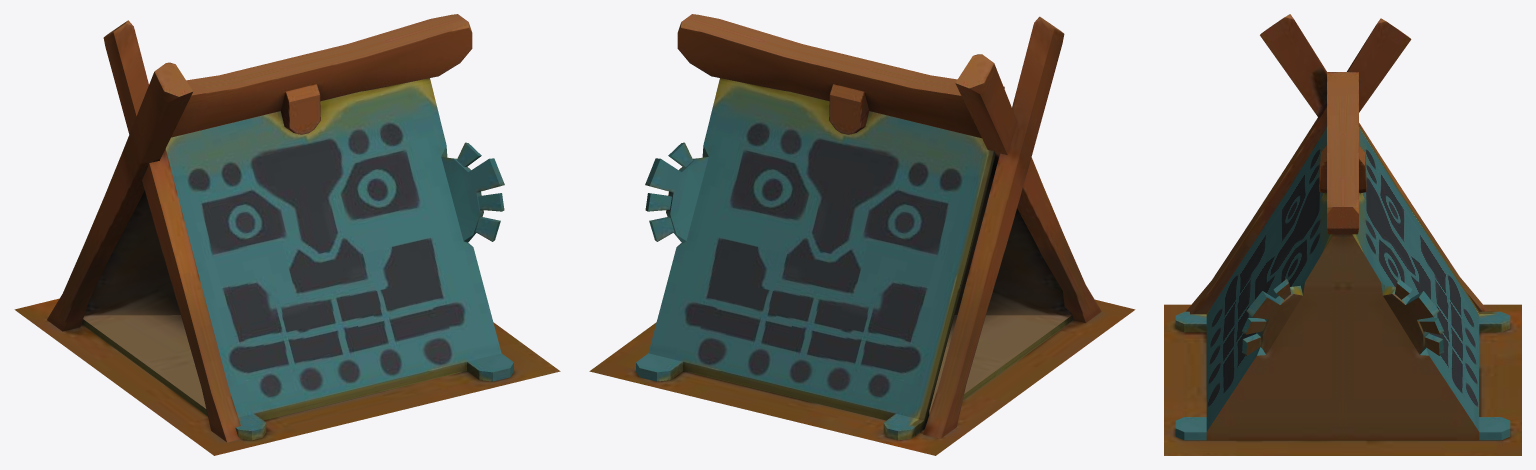
Rendered from BUD_Building_A 1.obj.
3 renders of one model, left to right at view 1: azimuth 30°, elevation 25°; view 2: azimuth 150°, elevation 25°; view 3: azimuth 270°, elevation 25°, orthographic. The views are drawn at different scales.
Visible parts, largest first — view 1: BUD_Building_A 1; view 2: BUD_Building_A 1; view 3: BUD_Building_A 1.
Boxes of the visible parts, left/top/right/bottom form: BUD_Building_A 1: left=14, top=14, right=560, bottom=455; BUD_Building_A 1: left=589, top=14, right=1135, bottom=455; BUD_Building_A 1: left=1164, top=14, right=1521, bottom=455.
Size of the model in its own units: 3.63 by 3.34 by 3.6.
Materials: 1 (1 with a texture image).
